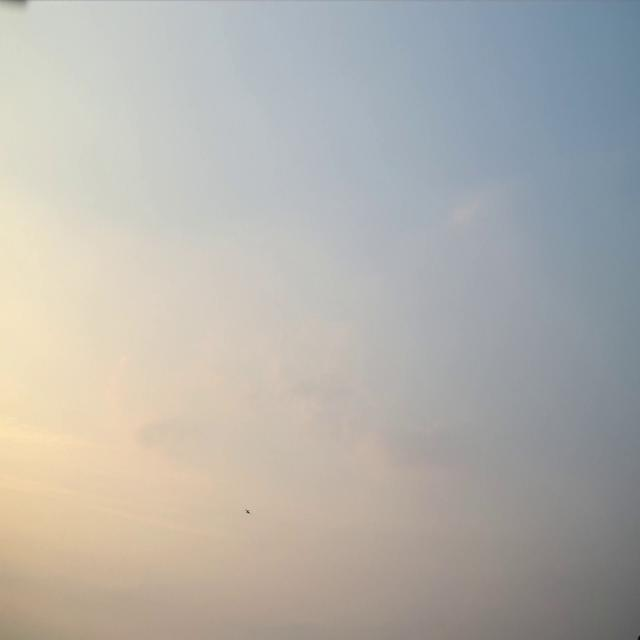UAV: (246, 508, 250, 514)
